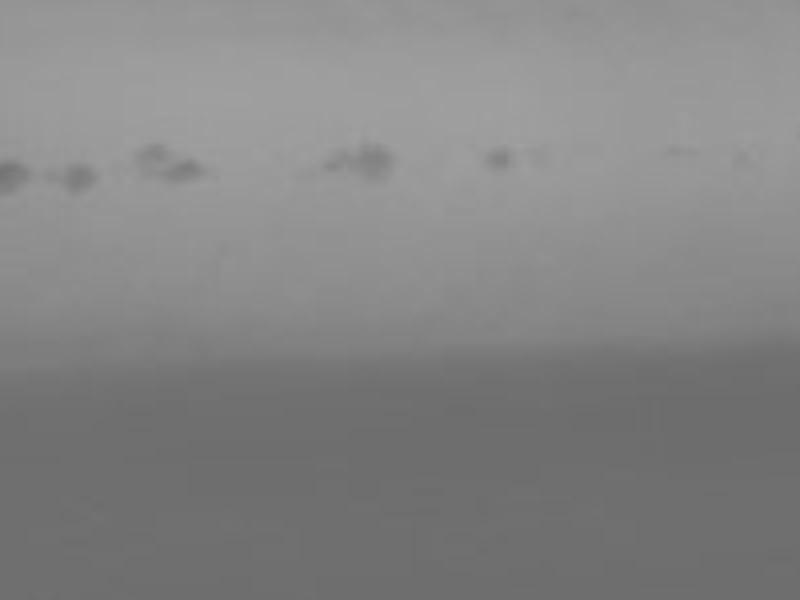defect: (343, 137, 392, 181), (60, 164, 97, 196), (160, 160, 202, 182), (1, 161, 28, 194), (482, 142, 512, 171), (321, 144, 348, 173), (733, 137, 755, 169), (137, 145, 165, 165), (661, 142, 693, 155), (41, 170, 61, 186)
